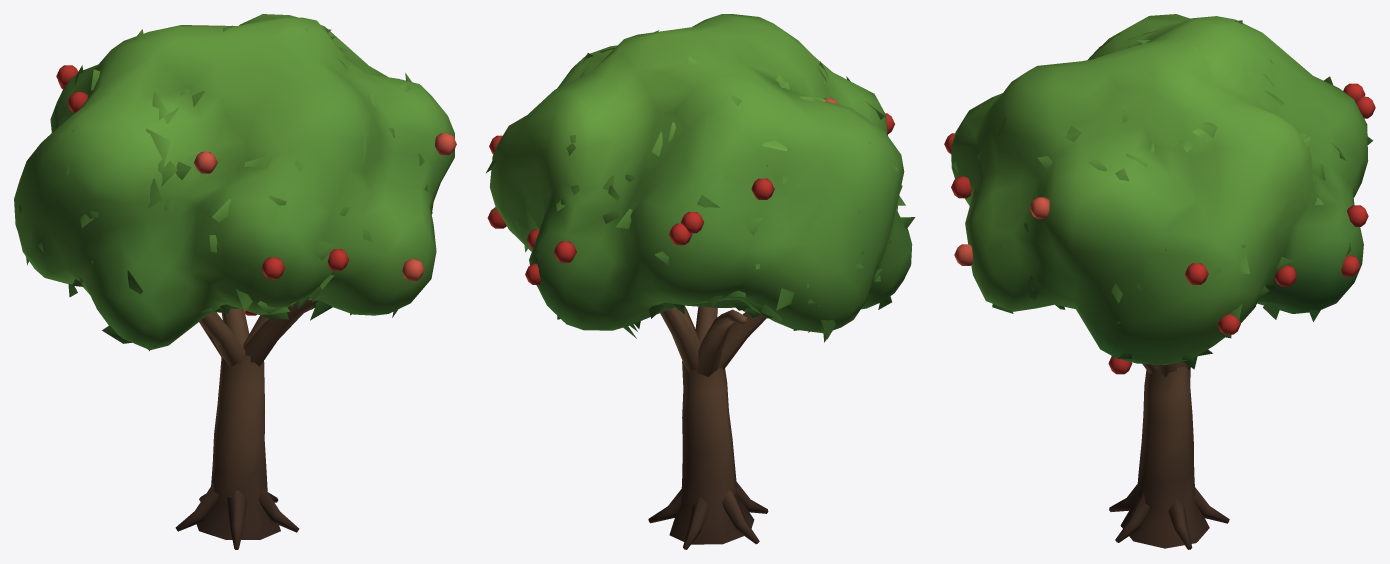
Rendered from prop.tree_apple.glb.
3 renders of one model, left to right at view 1: azimuth 30°, elevation 25°; view 2: azimuth 150°, elevation 25°; view 3: azimuth 270°, elevation 25°, orthographic.
Parts seen in each view (by area): view 1: tree_apple; view 2: tree_apple; view 3: tree_apple.
Boxes of the visible parts, x1,y1,x2,y2 form: tree_apple: (14, 14, 456, 549); tree_apple: (486, 14, 915, 549); tree_apple: (944, 14, 1375, 549).
Bounding box in the file's own units: 5.3 × 6.31 × 5.03.
